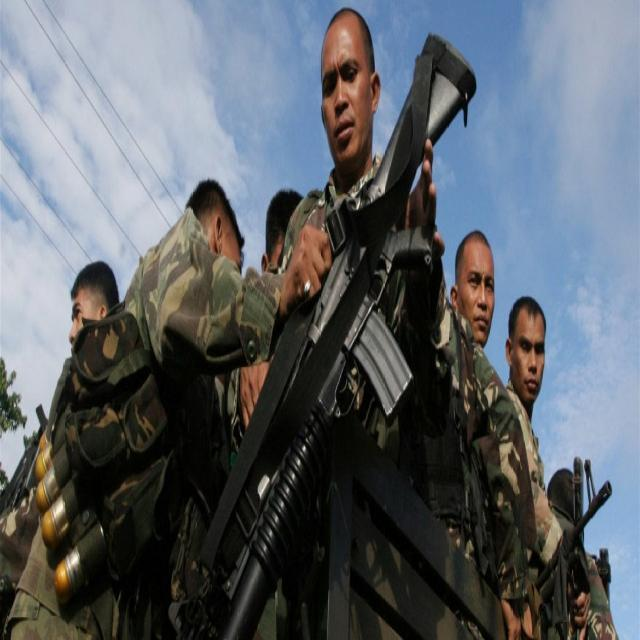m16: (514, 418, 628, 626)
